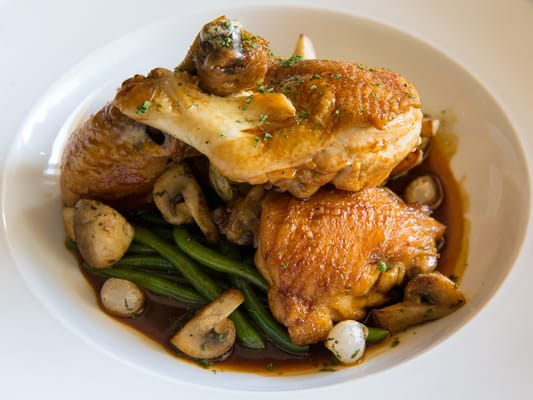curry: (1, 7, 515, 399)
